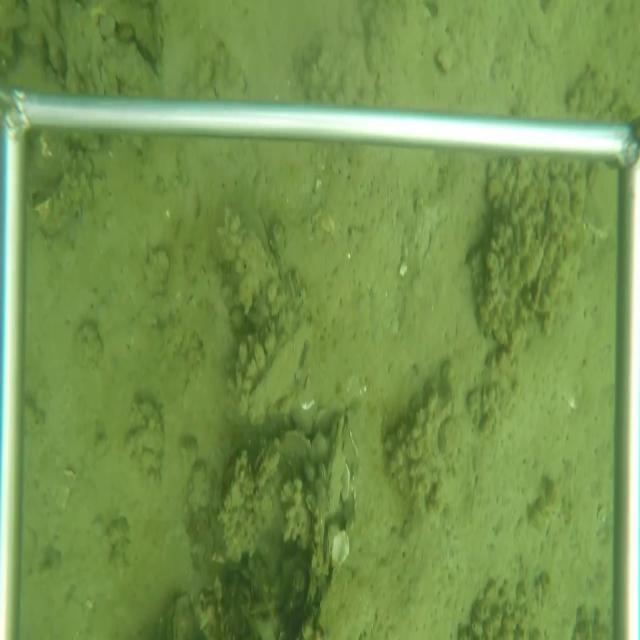Oyster-Closed: (236, 317, 315, 422), (323, 411, 347, 522)
Oyster-Open: (251, 442, 280, 496)
